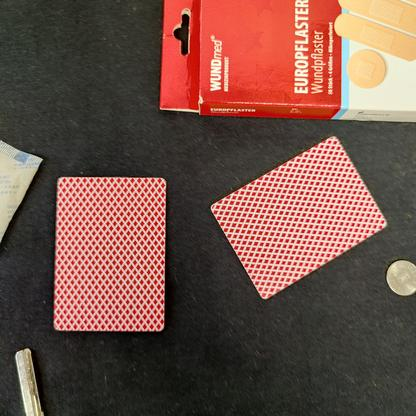card: (206, 130, 391, 314), (48, 170, 173, 341)
